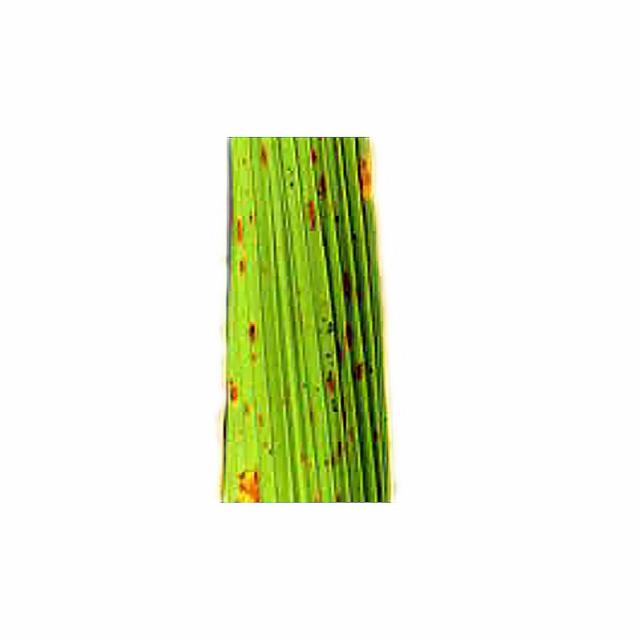Narrow brown: (180, 71, 434, 538)
